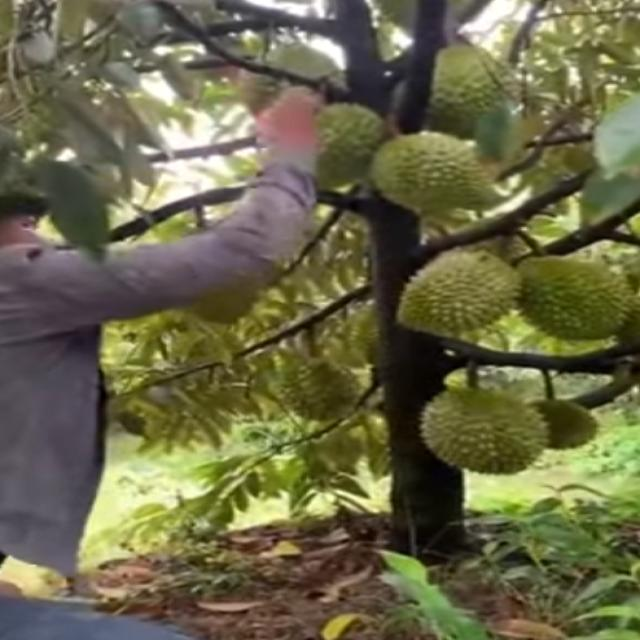immature: (404, 379, 550, 482), (359, 120, 500, 220), (513, 251, 631, 341), (395, 247, 520, 331)
